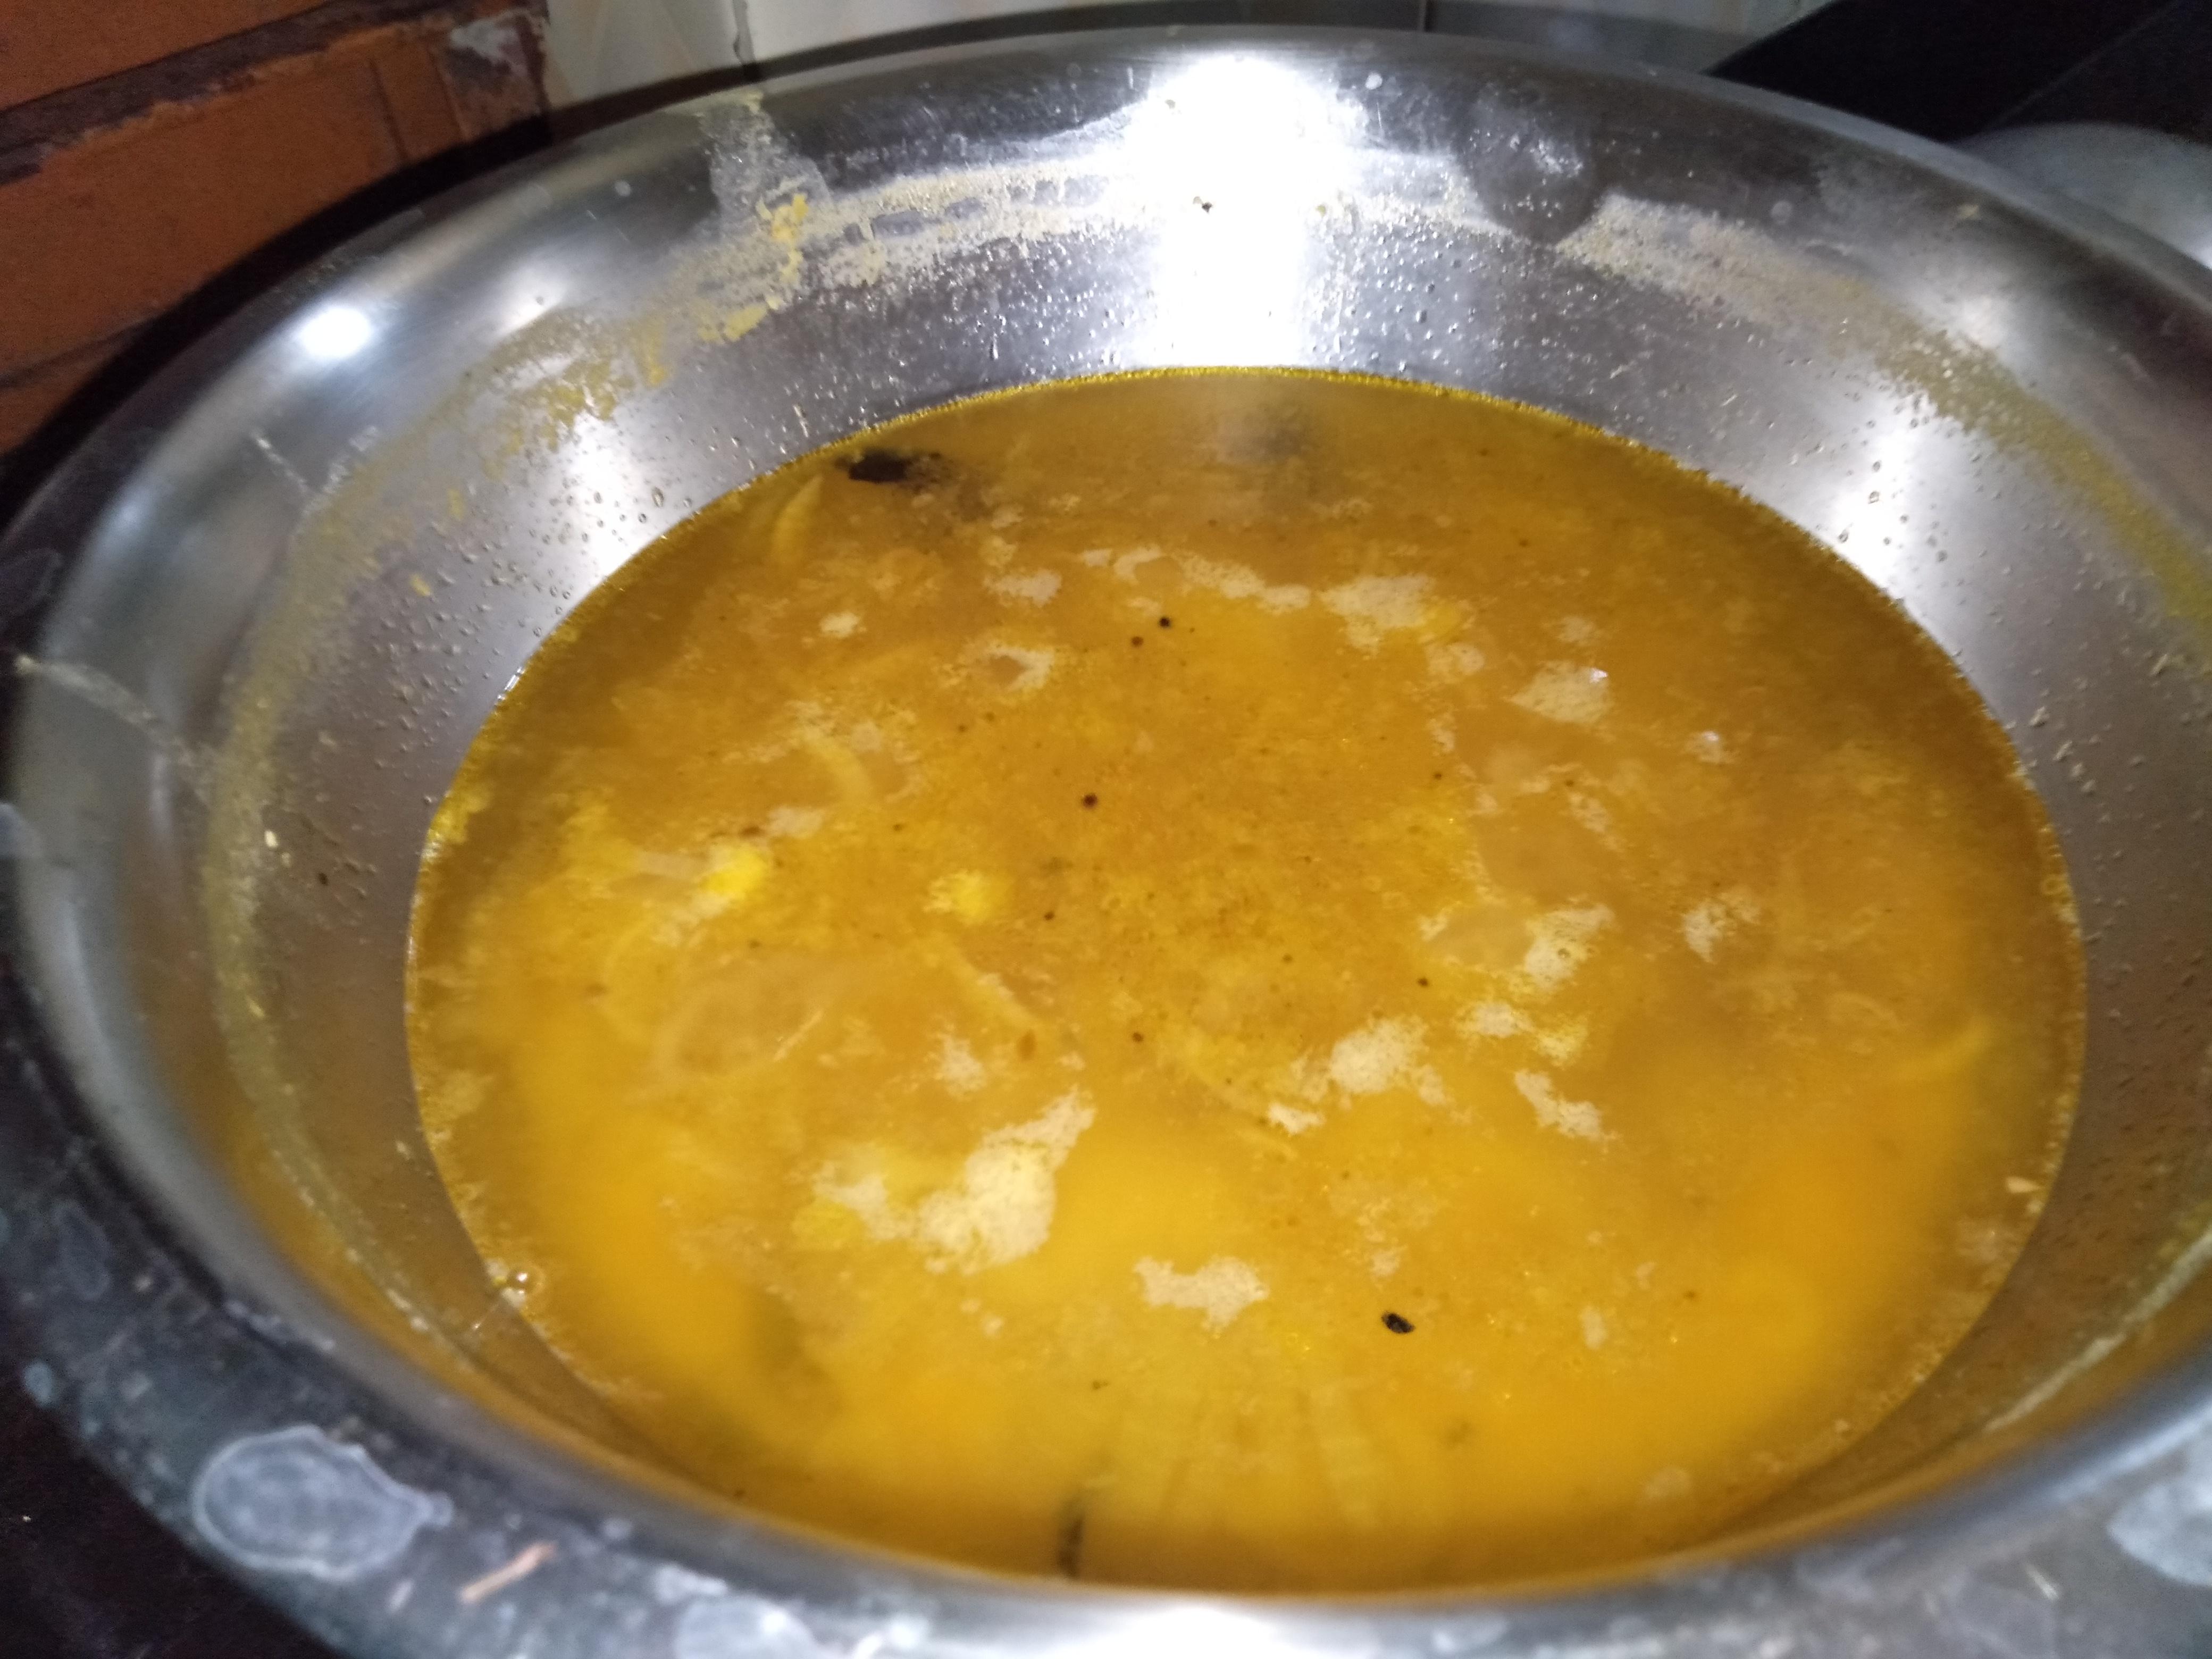food: (387, 354, 2097, 1600)
